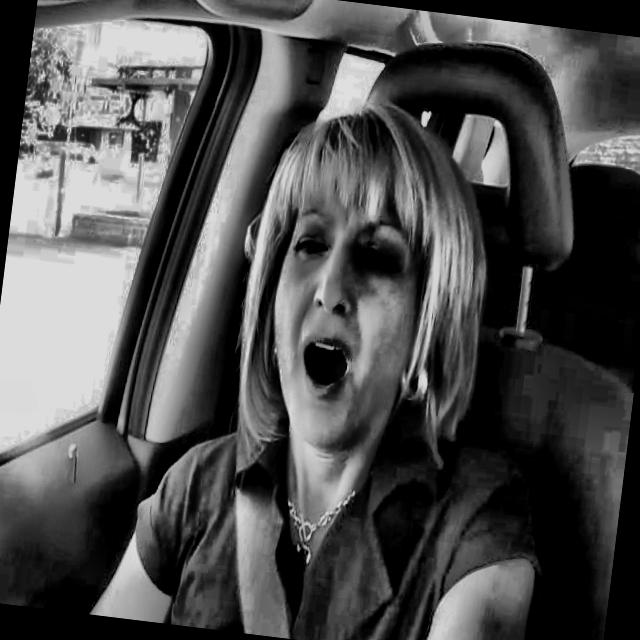open_mouth: (284, 325, 368, 413)
